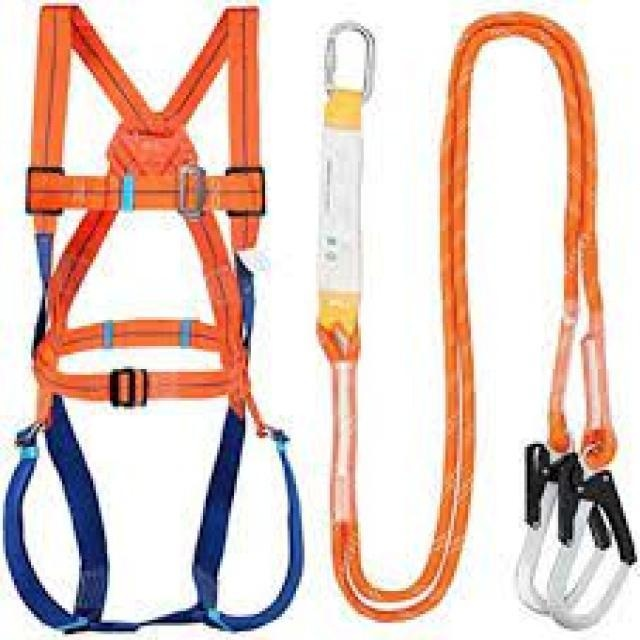Arnes_seguridad: (3, 2, 306, 636)
